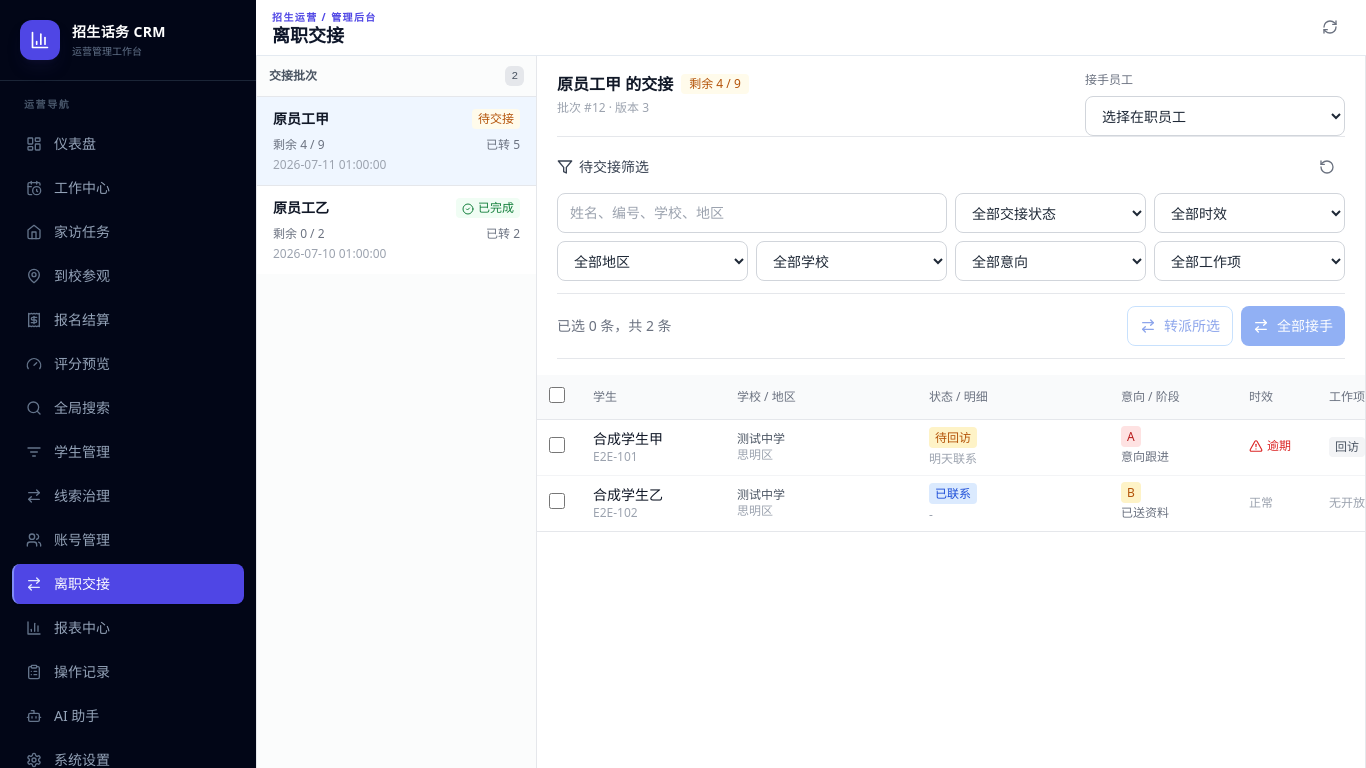
Test case: HandoverCenter › refreshes and clears stale selection after a 409 conflict
Select "接手员工" in the dropdown labelled "接手员工" at (1215, 116), box [1085,96,1345,136]
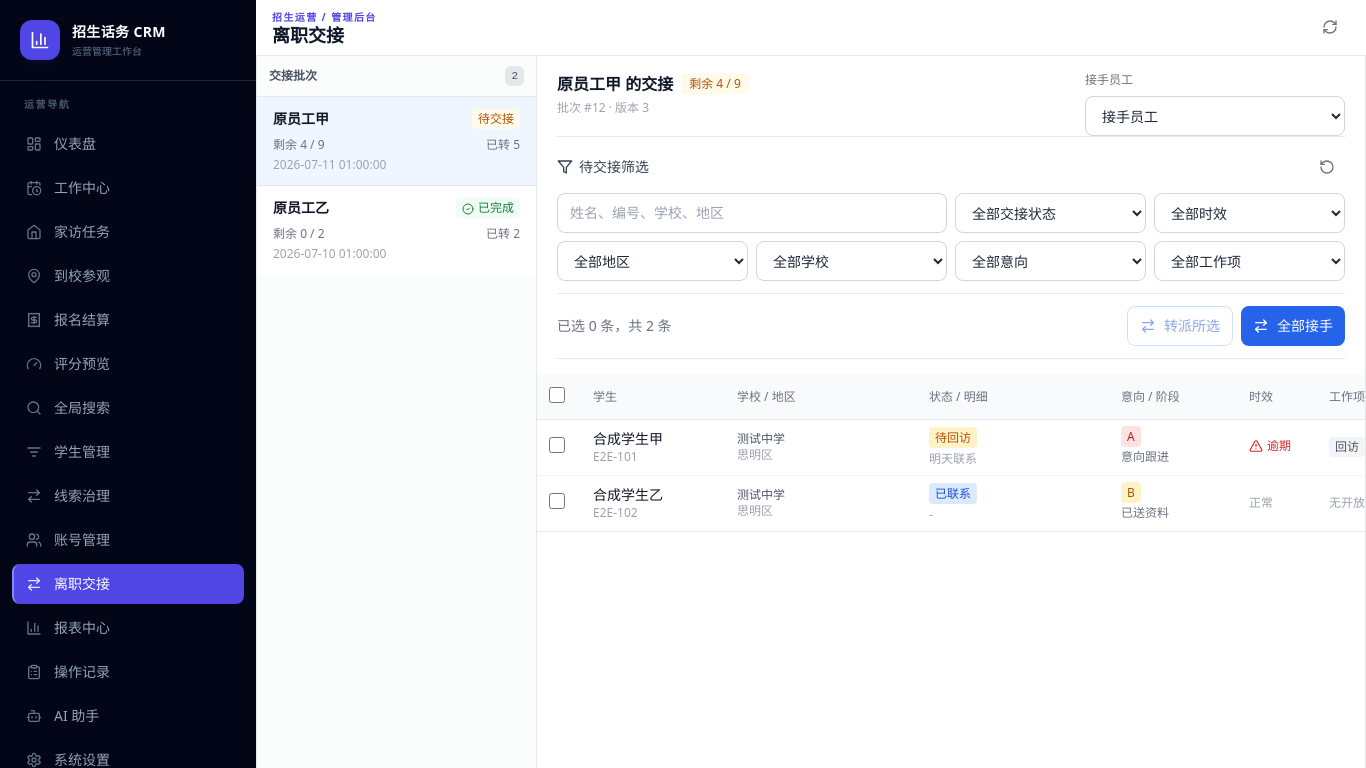
Click the checkbox named "选择 合成学生甲".
click(557, 444)  # box [549,436,565,452]
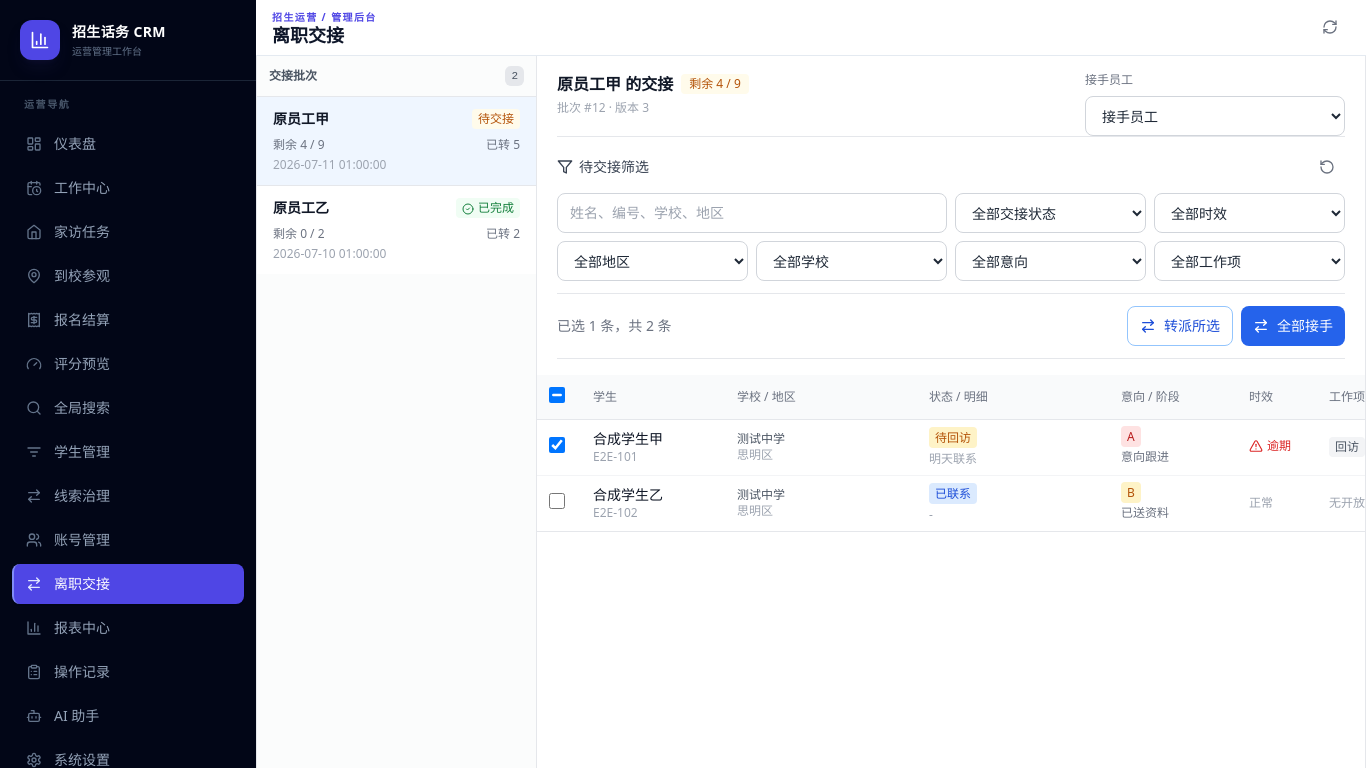
Click the button "转派所选".
click(1180, 326)  # box [1127,306,1233,346]
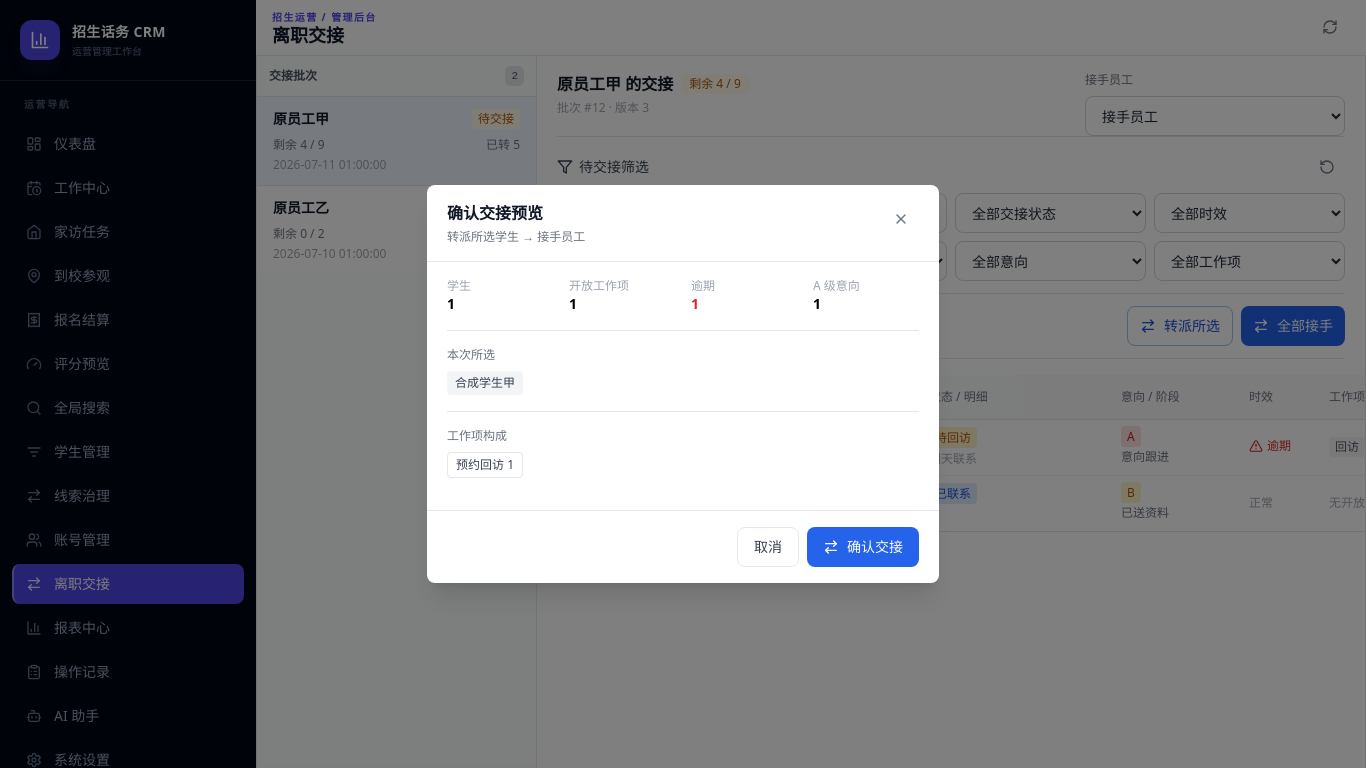
Check: the dialog is shown, box [427,185,939,583]
Click the button "确认交接".
click(863, 547)  # box [807,527,919,567]
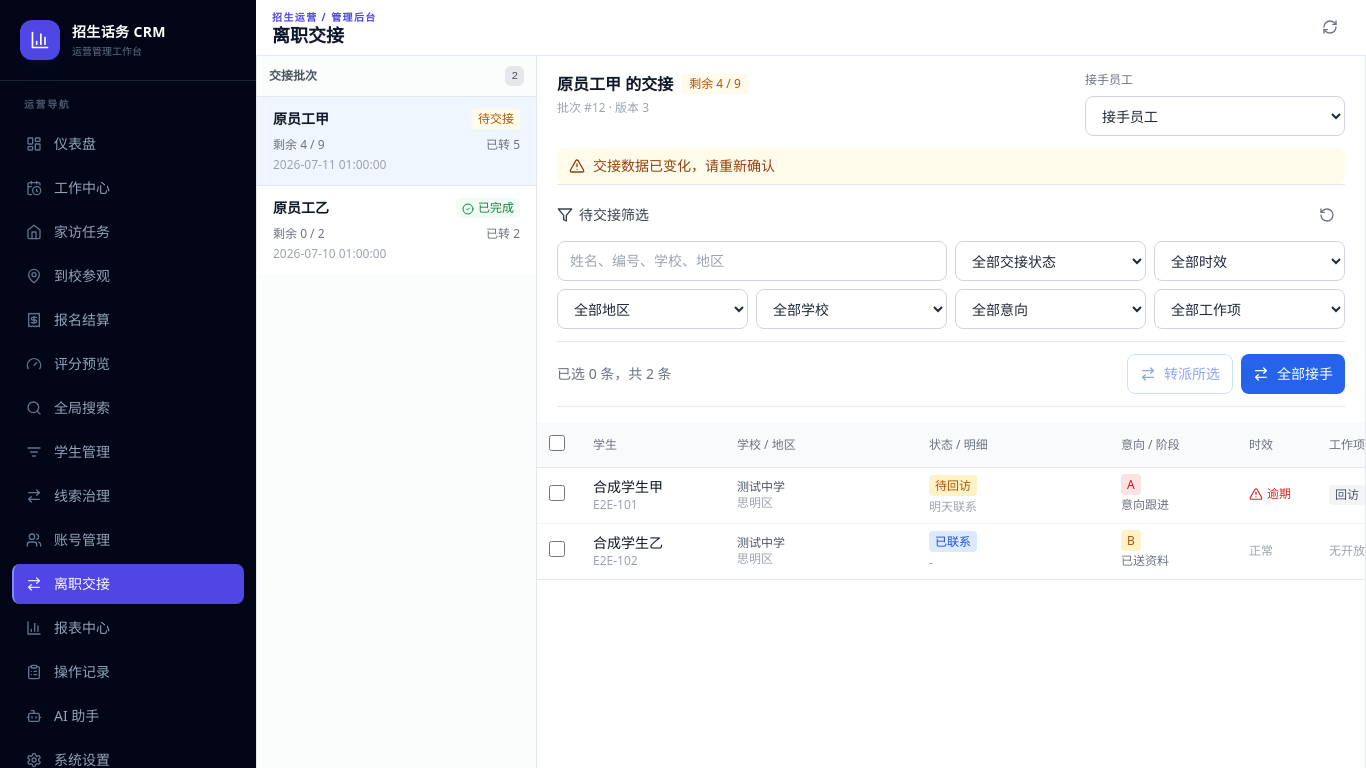
Check: the checkbox named "选择 合成学生甲" is not checked, box [549,484,565,500]
Check: the text "交接数据已变化，请重新确认" is shown, box [557,148,1345,184]
